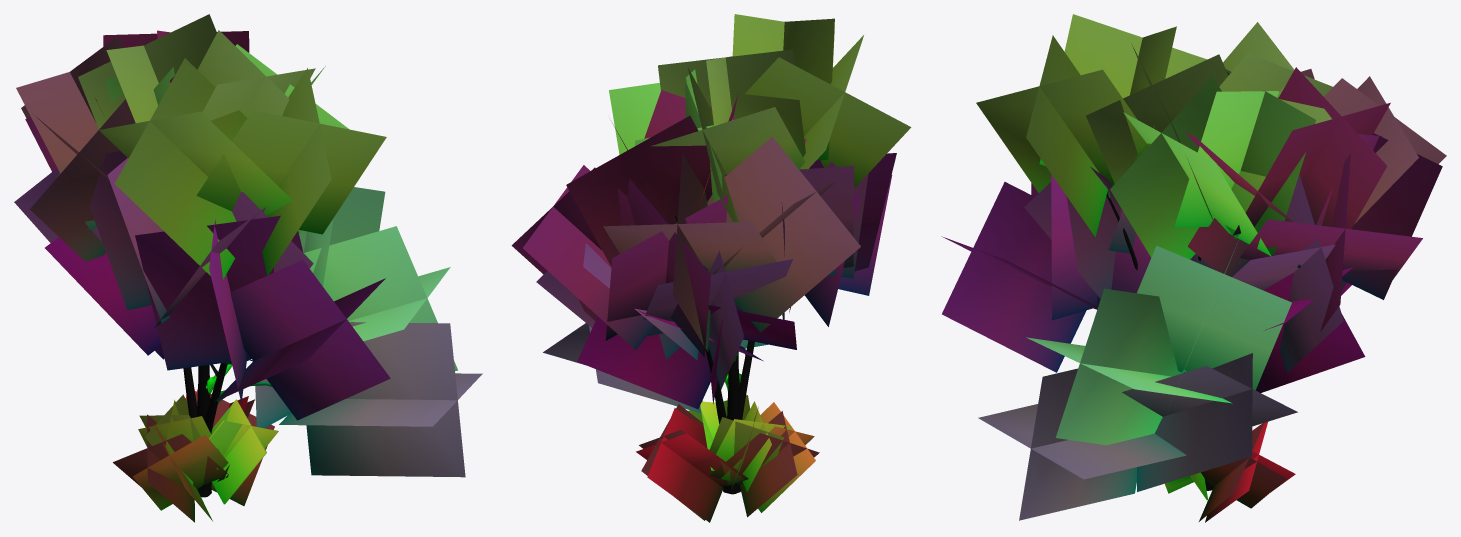
File: URP_P12_Tree_10_LOD_1.fbx
3 views of the same model, side by side, from view 1: azimuth 30°, elevation 25°; view 2: azimuth 150°, elevation 25°; view 3: azimuth 270°, elevation 25° (orthographic). The views are drawn at different scales.
Visible parts, largest first — view 1: Tree_10_LOD_1; view 2: Tree_10_LOD_1; view 3: Tree_10_LOD_1.
Part boxes in pixels (x1,y1,x2,y2): Tree_10_LOD_1: (14, 14, 482, 522); Tree_10_LOD_1: (511, 14, 911, 522); Tree_10_LOD_1: (941, 14, 1446, 522).
Bounding box in the file's own units: 178 × 218 × 215.
